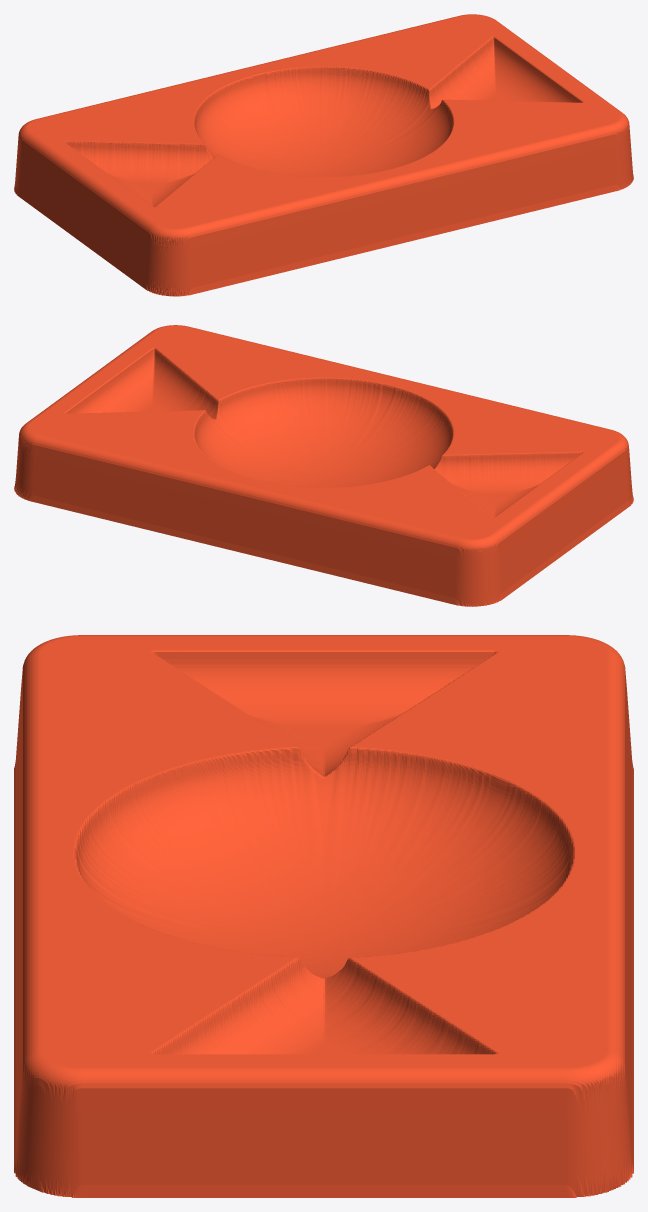
The model's file is mold.glb.
3 views of the same model, one above another, from view 1: azimuth 30°, elevation 25°; view 2: azimuth 150°, elevation 25°; view 3: azimuth 270°, elevation 25° (orthographic). The views are drawn at different scales.
Visible parts, largest first — view 1: geometry_0; view 2: geometry_0; view 3: geometry_0.
Boxes of the visible parts, box(x1,y1,x2,y2) form: geometry_0: box(14, 14, 633, 296); geometry_0: box(14, 325, 633, 606); geometry_0: box(14, 635, 633, 1197).
Size of the model in its own units: 0.1435 by 0.0175 by 0.0828.
